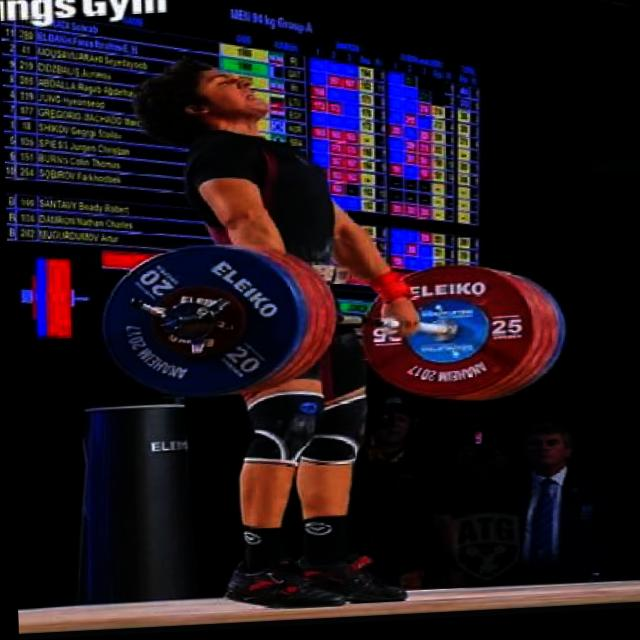barbell: (90, 238, 308, 413)
